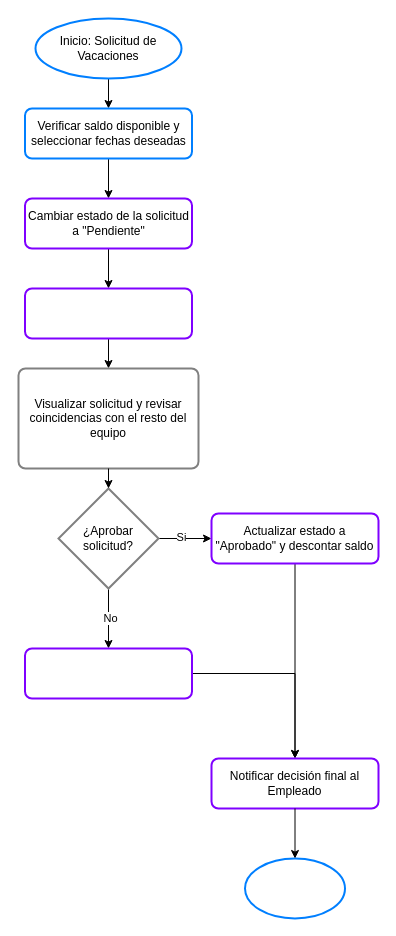
The diagram is 396 pixels wide and 936 high, and some of its shapes have lost their labels. Here are the shapes that lost their labels. From the top down, the box of each, then its label:
(24, 287, 192, 339): Notificar nueva solicitud al Jefe Directo
(24, 647, 192, 699): Actualizar estado a "Rechazado" (Guardar comentarios)
(244, 857, 346, 919): Fin del proceso
